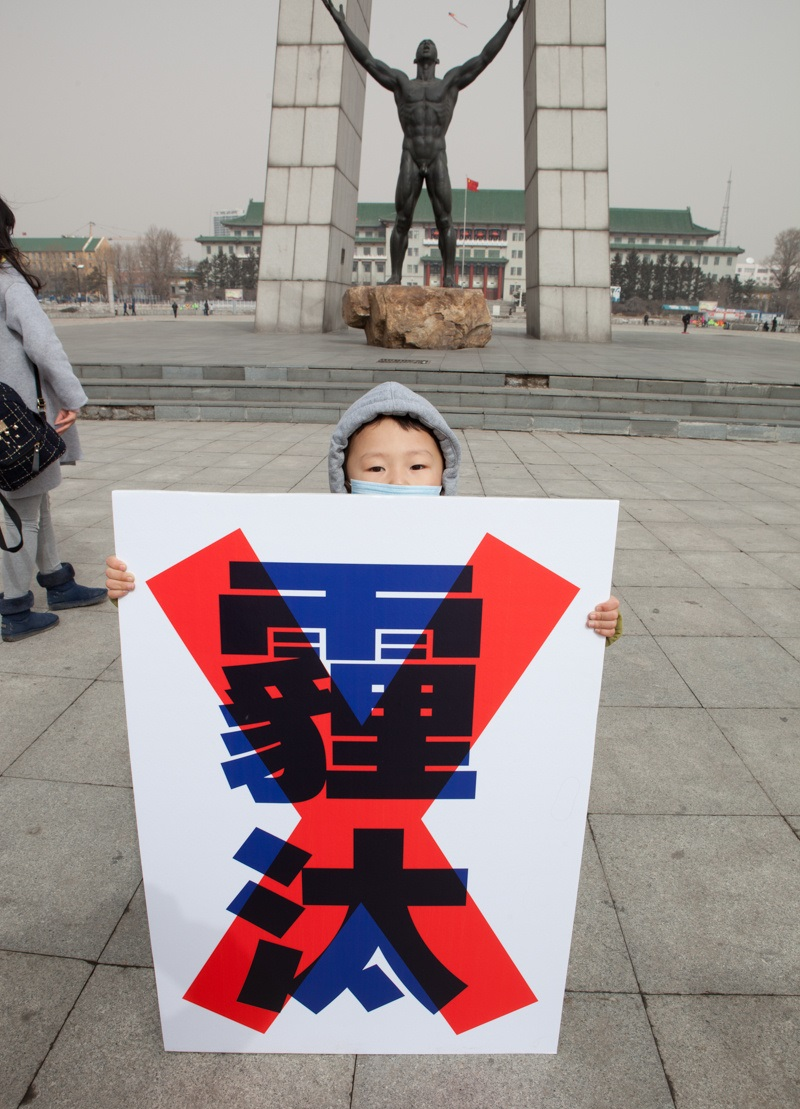face_mask: (347, 416, 442, 553)
